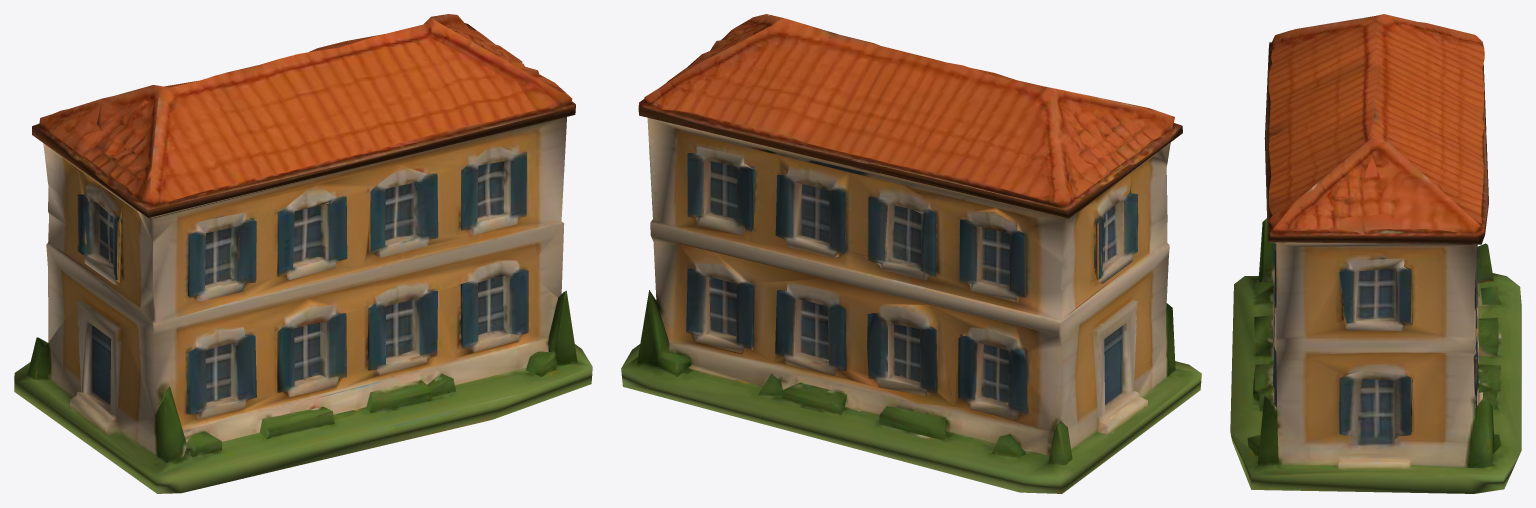
Rendered from cuneo-2022-schoolroom.lod.glb.
The picture shows the model from 3 angles, left to right: view 1: azimuth 30°, elevation 25°; view 2: azimuth 150°, elevation 25°; view 3: azimuth 270°, elevation 25°; orthographic projection. The views are drawn at different scales.
Visible parts, largest first — view 1: textured_mesh.obj; view 2: textured_mesh.obj; view 3: textured_mesh.obj.
Part boxes in pixels (x1=…): textured_mesh.obj: x1=14, y1=14, x2=592, y2=493; textured_mesh.obj: x1=621, y1=14, x2=1201, y2=493; textured_mesh.obj: x1=1230, y1=14, x2=1521, y2=493.
Bounding box in the file's own units: 1.41 × 0.996 × 0.8405.
1 material, 1 textured.
